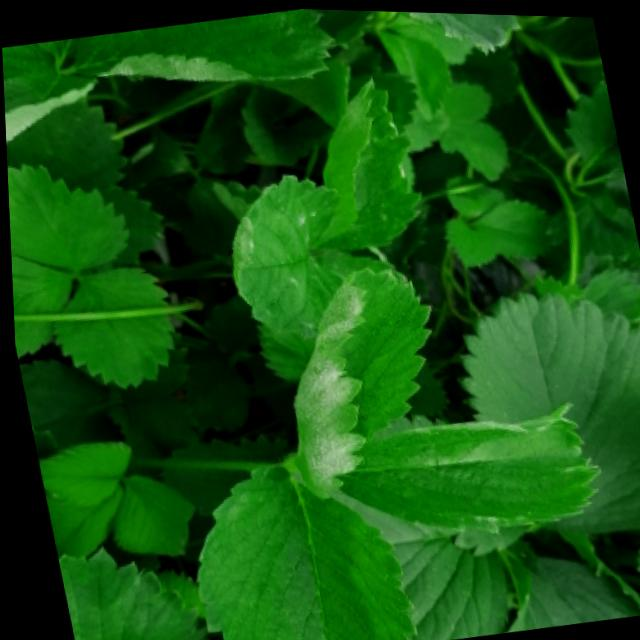Powdery Mildew Leaf: (331, 396, 598, 533), (288, 263, 430, 494), (225, 172, 348, 329), (322, 73, 420, 245)
